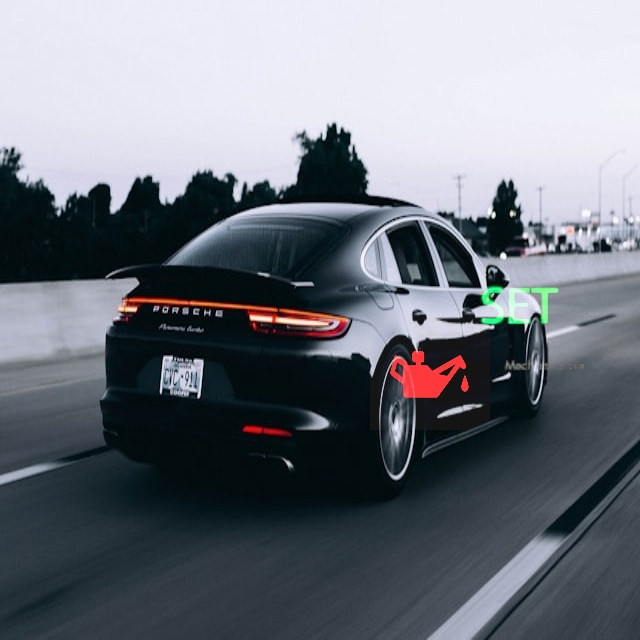symbol: (450, 237, 590, 377), (370, 310, 490, 430)
